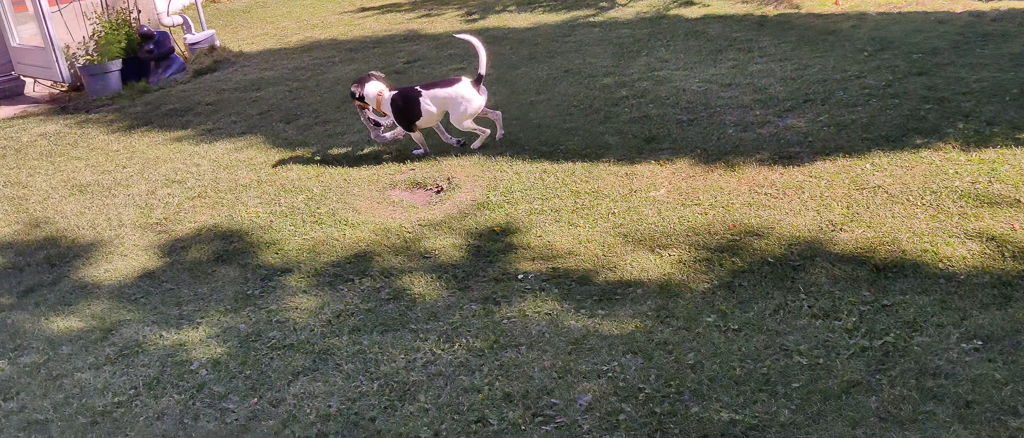Dog: (340, 26, 519, 167)
Humanoid: (121, 18, 196, 91)
